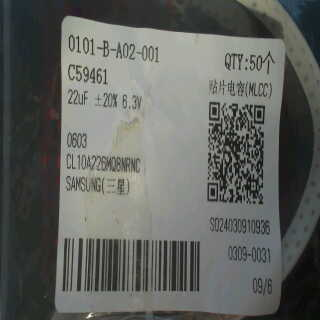22uF: (65, 88, 89, 106)
